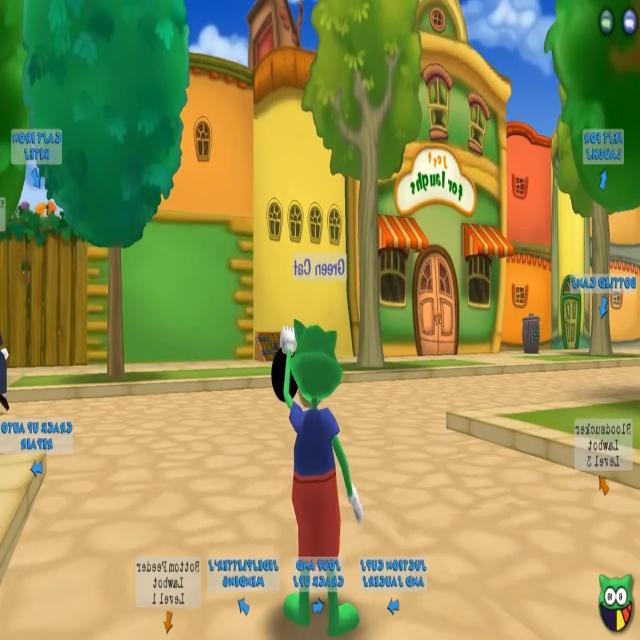bloodsucker: (0, 197, 14, 418)
